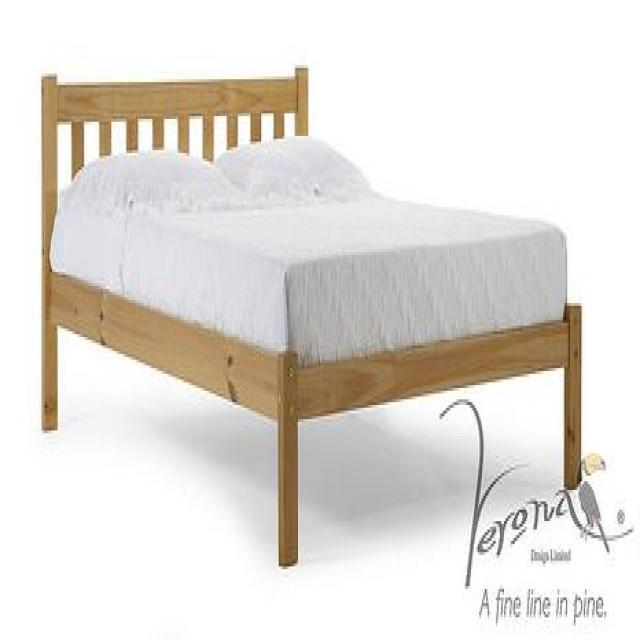bed: (40, 62, 582, 566)
